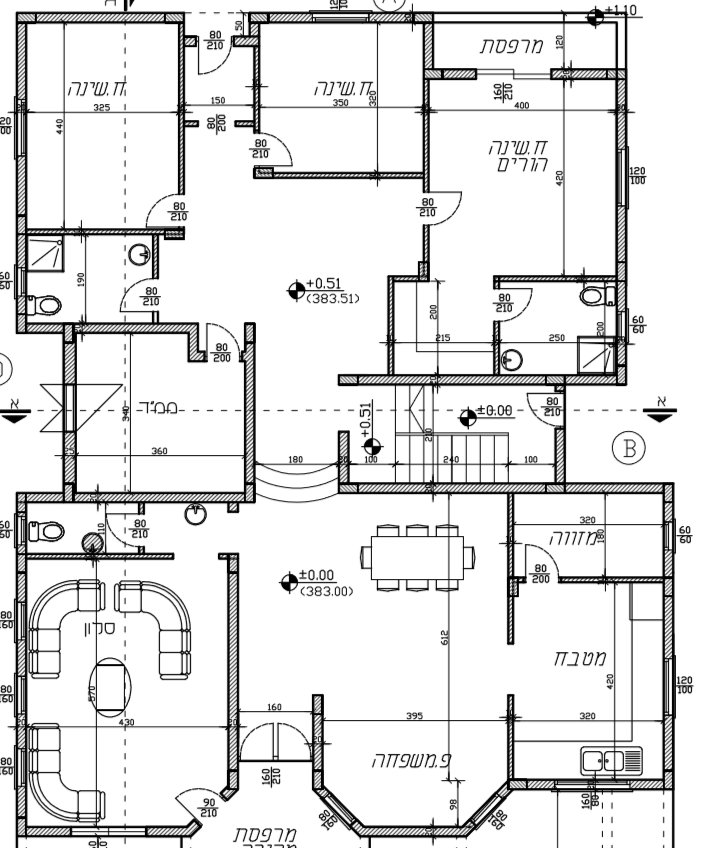door: (437, 182, 476, 230), (159, 778, 203, 814), (270, 127, 303, 170), (244, 719, 277, 755), (521, 539, 561, 568), (114, 279, 143, 318), (202, 314, 238, 345), (509, 285, 540, 320), (522, 390, 548, 427), (191, 52, 227, 78), (273, 717, 301, 750)
wall: (246, 346, 253, 477), (105, 494, 241, 500), (229, 576, 235, 703), (62, 13, 153, 21), (438, 483, 539, 490), (441, 374, 542, 381), (567, 484, 655, 491), (90, 325, 181, 331)
window: (652, 658, 678, 716), (312, 7, 370, 31), (10, 101, 30, 158), (10, 601, 28, 641), (10, 747, 28, 786), (12, 675, 29, 716), (10, 513, 29, 549), (658, 521, 679, 551), (12, 268, 29, 297)
